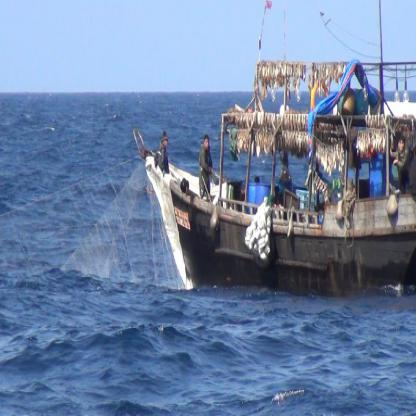fish-b: (127, 49, 416, 300)
